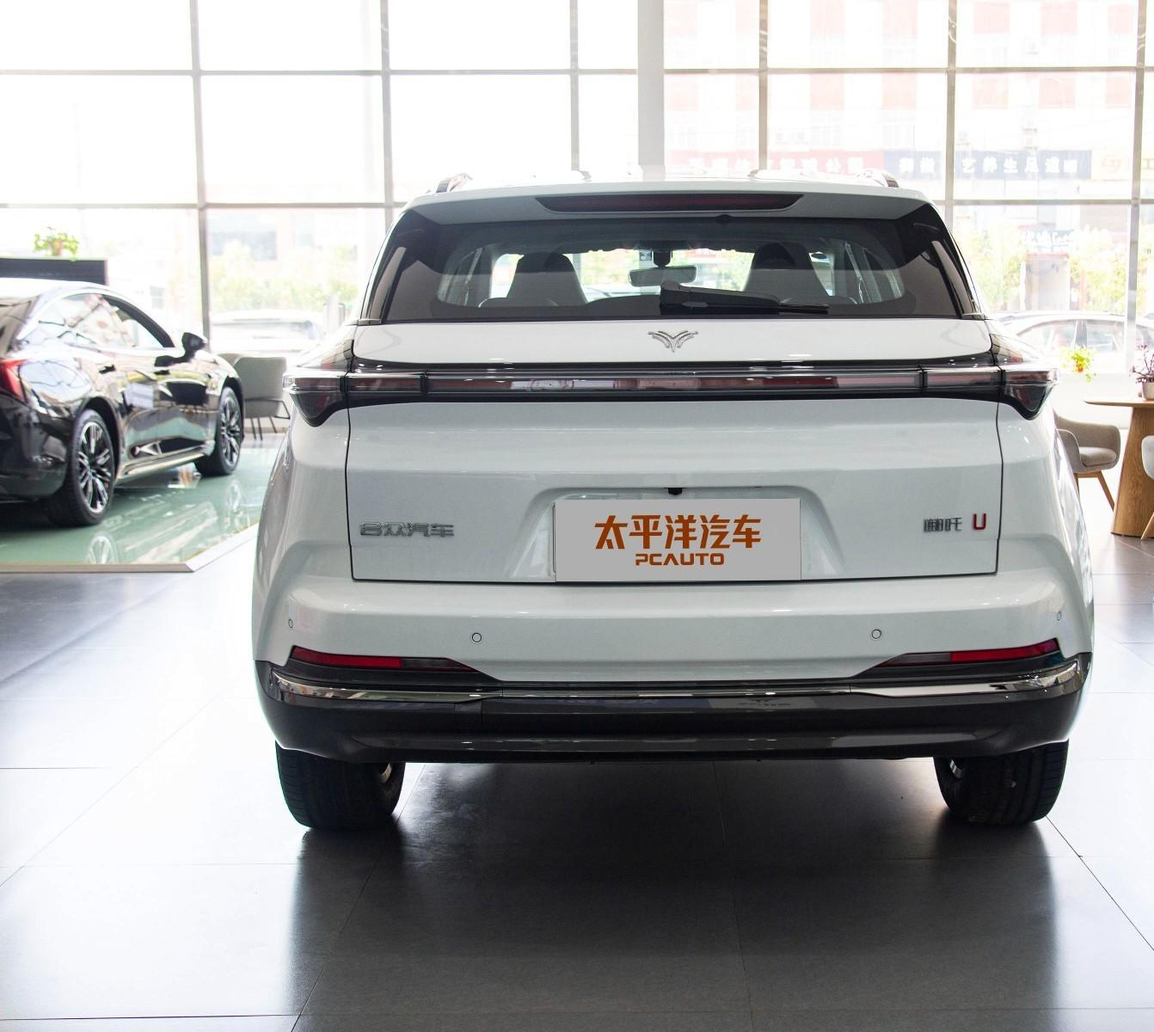NETA: (648, 328, 700, 355)
